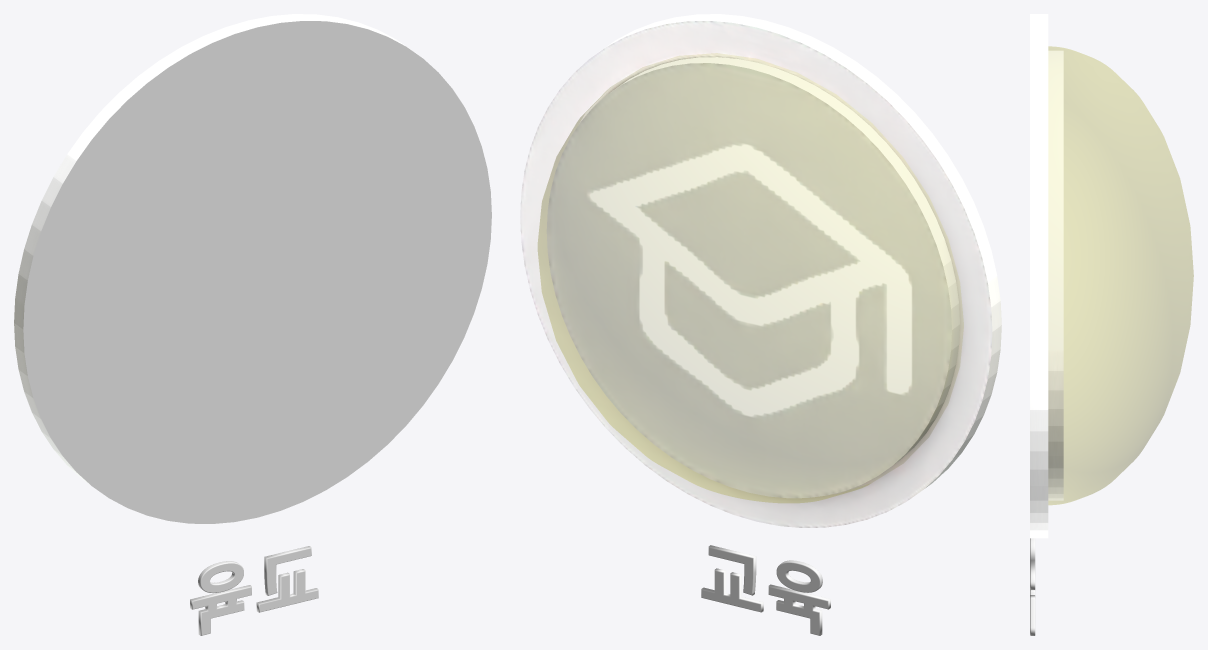
File: button-b-reverse.glb
3 views of the same model, side by side, from view 1: azimuth 30°, elevation 25°; view 2: azimuth 150°, elevation 25°; view 3: azimuth 270°, elevation 25° (orthographic). The views are drawn at different scales.
Parts seen in each view (by area): view 1: Cylinder.026, Text.088; view 2: Sphere.017, Cylinder.027, Cylinder.026, Text.088; view 3: Sphere.017, Cylinder.026, Cylinder.027, Text.088.
Boxes of the visible parts, x1,y1,x2,y2 form: Cylinder.026: (14, 14, 491, 523); Text.088: (190, 546, 318, 635); Sphere.017: (538, 53, 963, 502); Cylinder.027: (546, 57, 959, 498); Cylinder.026: (520, 14, 1001, 527); Text.088: (701, 545, 830, 635); Sphere.017: (1048, 46, 1193, 504); Cylinder.026: (1030, 14, 1048, 538); Cylinder.027: (1048, 50, 1063, 500); Text.088: (1030, 538, 1035, 635).
Size of the model in its own units: 0.2199 by 0.2668 by 0.0686.
